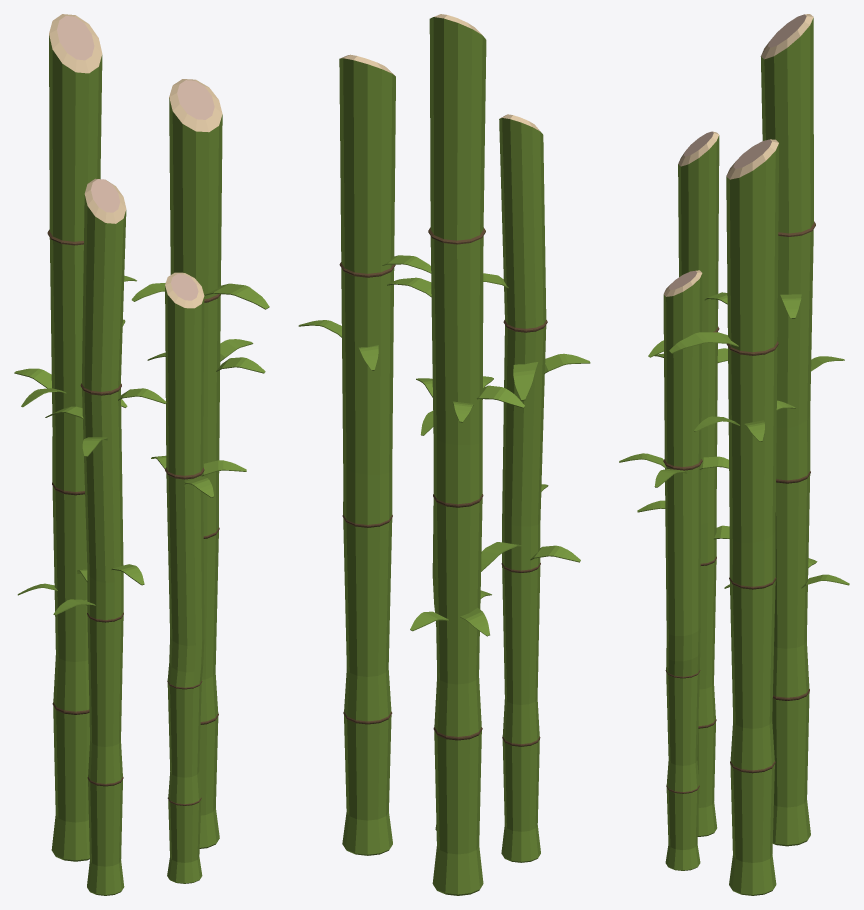
Rendered from Bamboo_2.fbx.
3 renders of one model, left to right at view 1: azimuth 30°, elevation 25°; view 2: azimuth 150°, elevation 25°; view 3: azimuth 270°, elevation 25°, orthographic. The views are drawn at different scales.
Visible parts, largest first — view 1: Bamboo_2; view 2: Bamboo_2; view 3: Bamboo_2.
Boxes of the visible parts, x1,y1,x2,y2 form: Bamboo_2: (14, 14, 269, 895); Bamboo_2: (298, 14, 590, 895); Bamboo_2: (619, 14, 849, 895).
Size of the model in its own units: 38.06 by 130 by 33.12.
